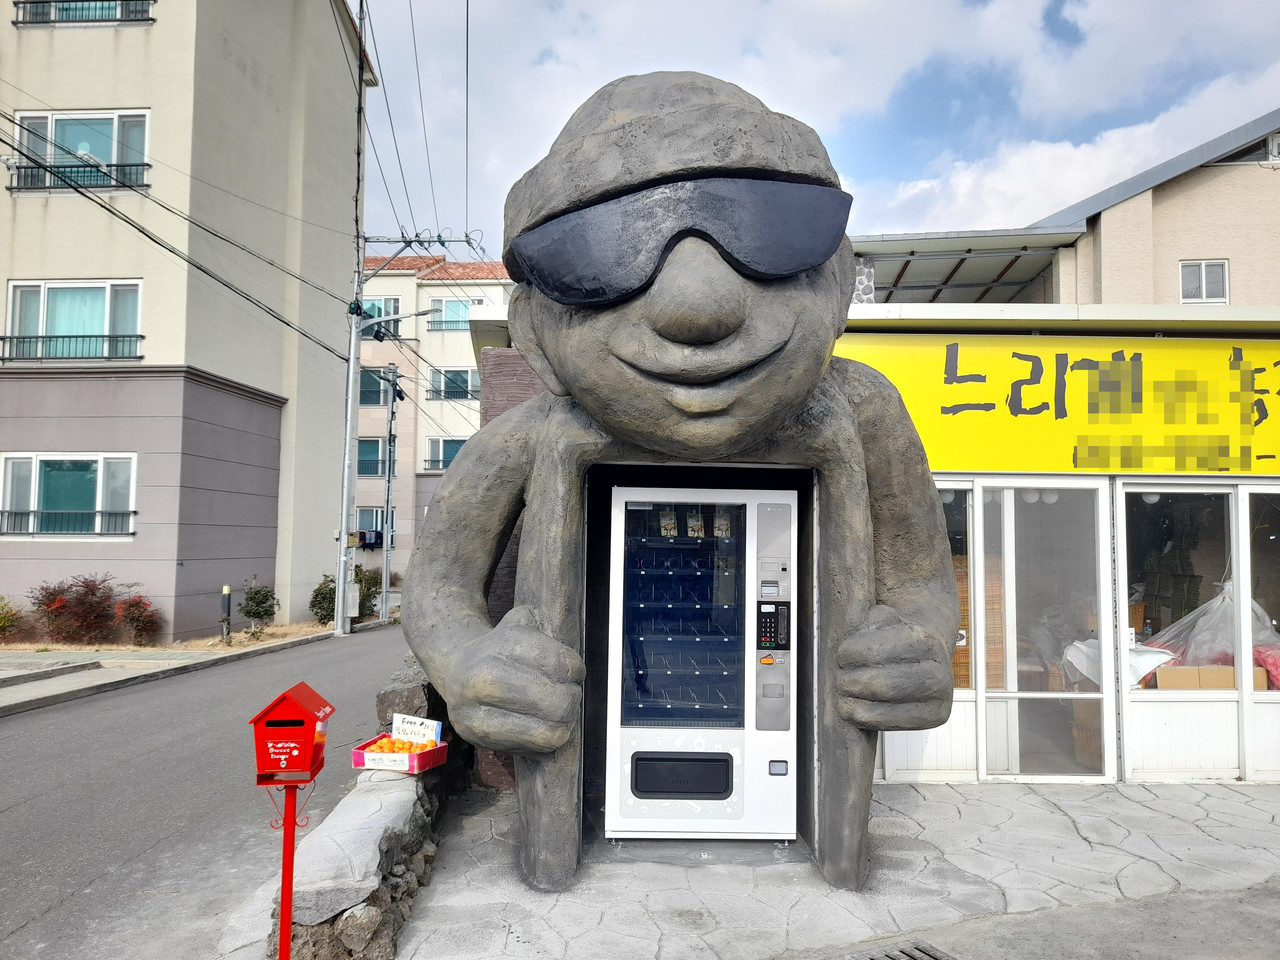Stone Statue: (354, 63, 991, 936)
